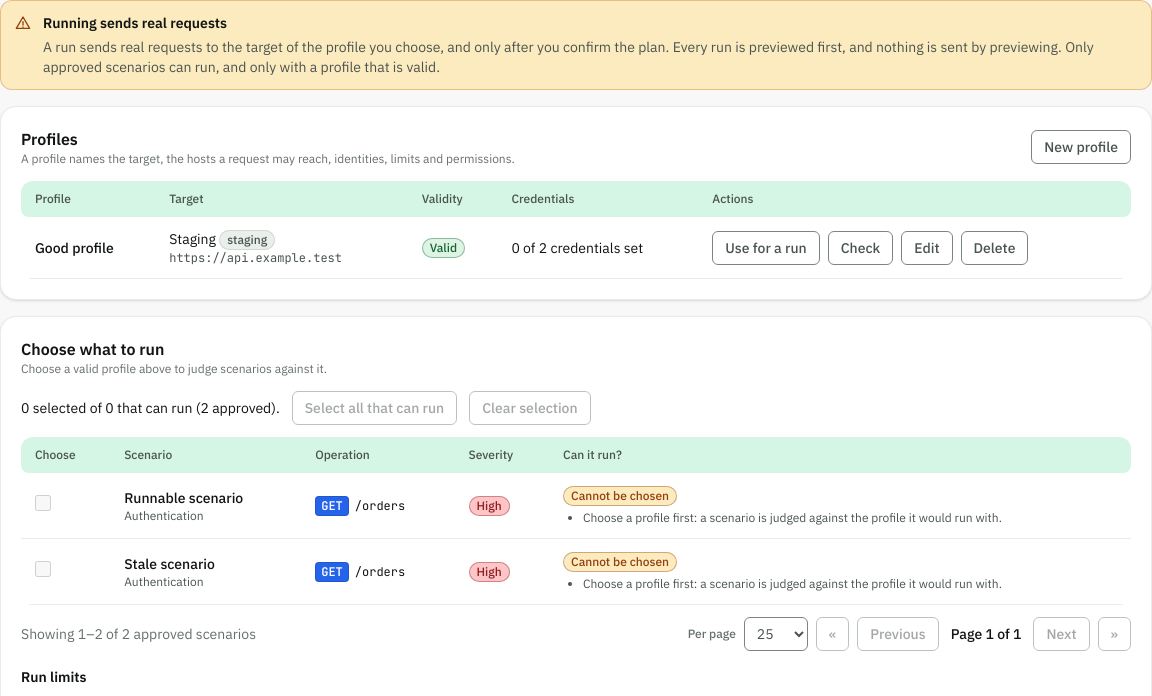
Scenario: ExecutionArea accessibility (T107, CLAUDE.md section 38) › shows every outcome as text, and blocked, errored and not run as not a pass
Step 1. Click the button with aria-label "Edit Good profile" → (927, 248), box [901, 230, 953, 264]
(page scrolled)
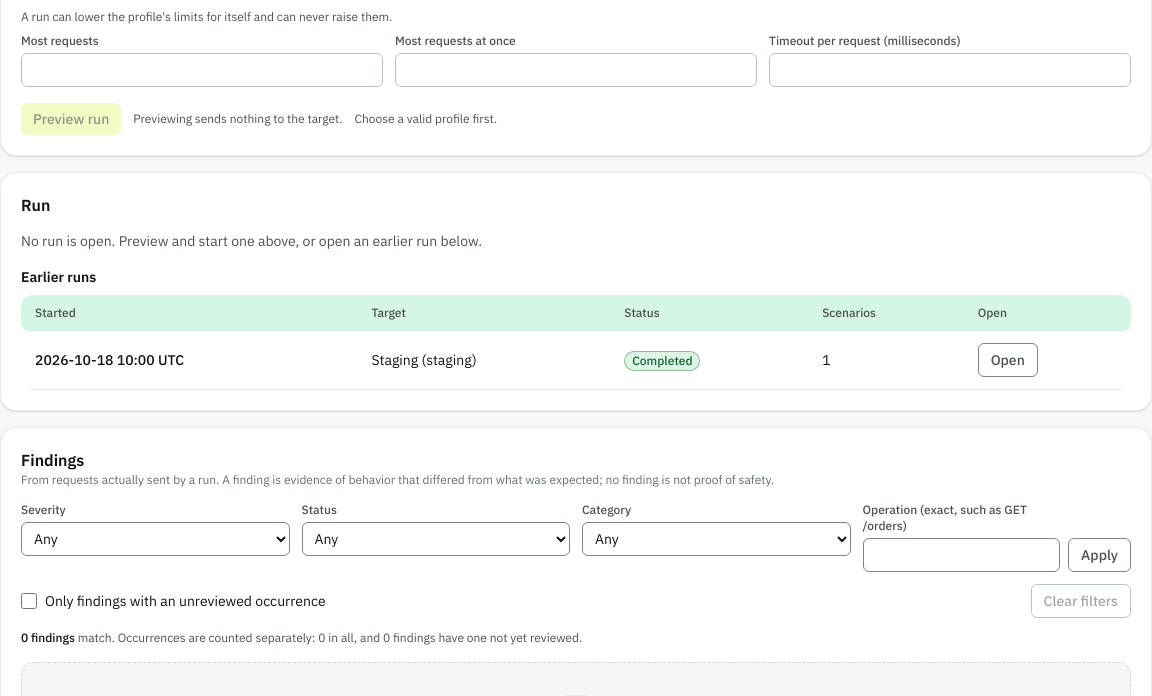
Step 2. Click the button with aria-label "Open the run started 2026-10-18 10:00 UTC" → (1008, 360), box [978, 343, 1038, 377]
(page scrolled)
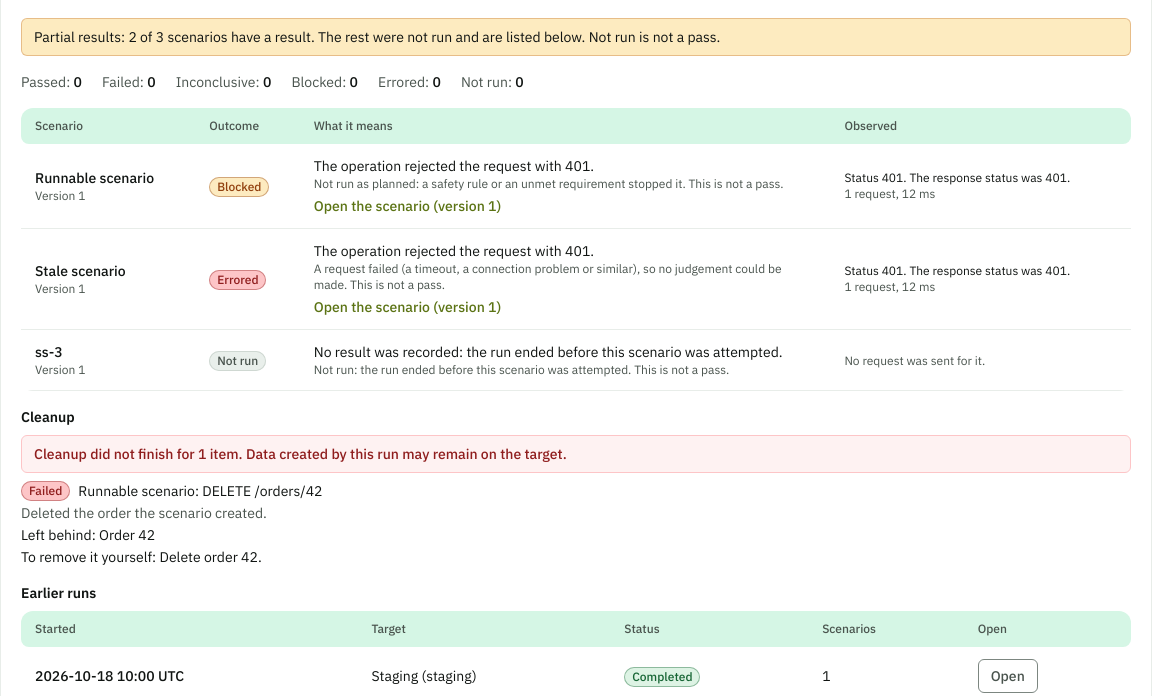
Expected: the element with test id "status-badge" does not show ""
Expected: the number of rows with test id "run-result-row" is 3, [21, 144, 1131, 228]; [21, 228, 1131, 330]; [21, 330, 1131, 390]
Expected: the row with test id "run-result-row" shows "This is not a pass.", [314, 176, 784, 191]
